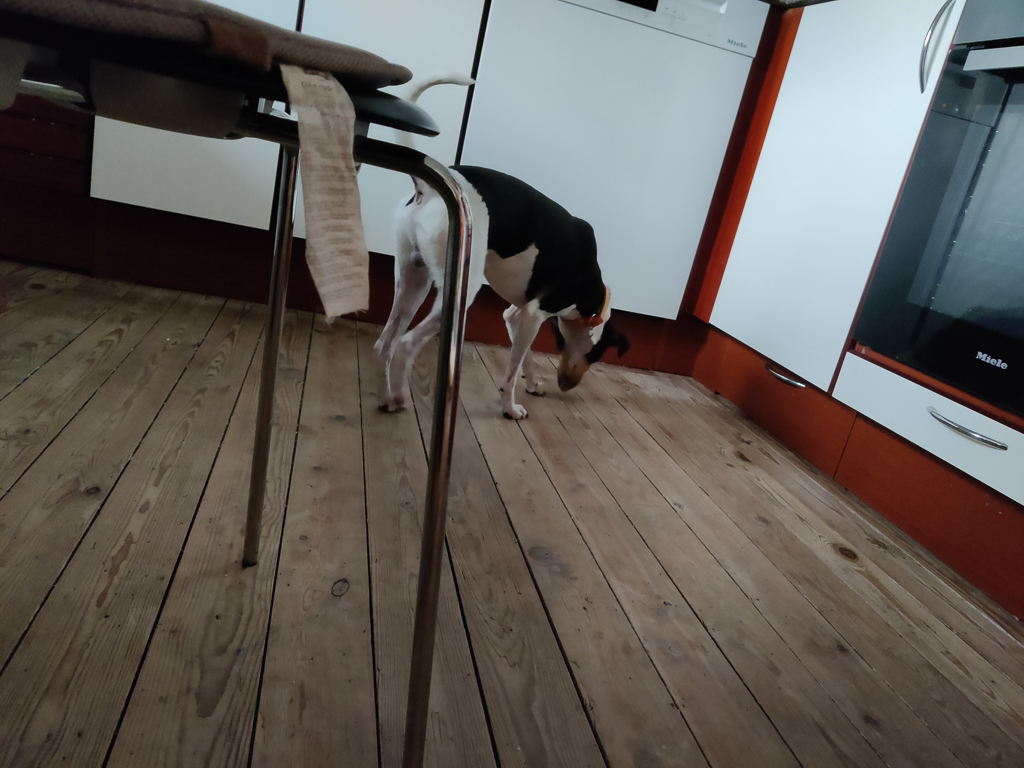Dog: (356, 57, 629, 427)
